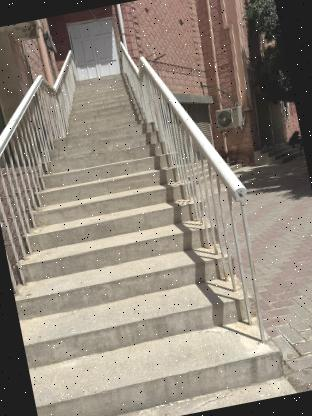stair: (33, 146, 235, 416), (34, 57, 164, 252)
